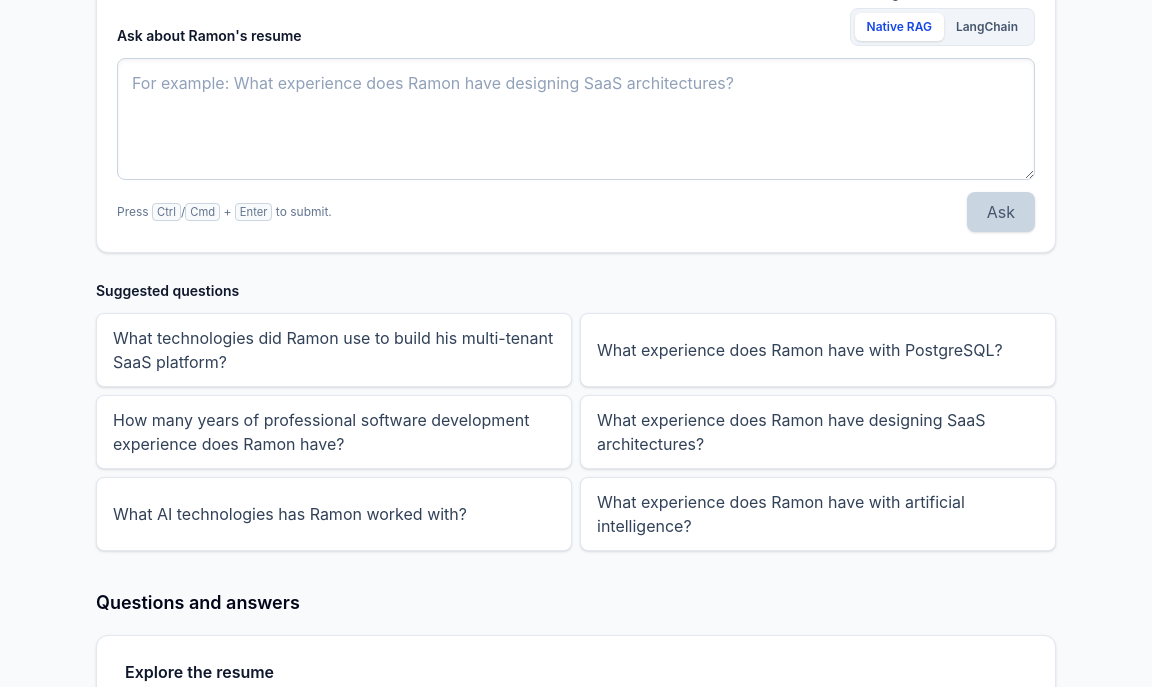
AI Resume application › preserves the engine used by each completed answer
The width and height of the screenshot is (1152, 687).
(page scrolled)
Click the button "What experience does Ramon have with PostgreSQL?": x=818, y=350 [580, 313, 1056, 387]
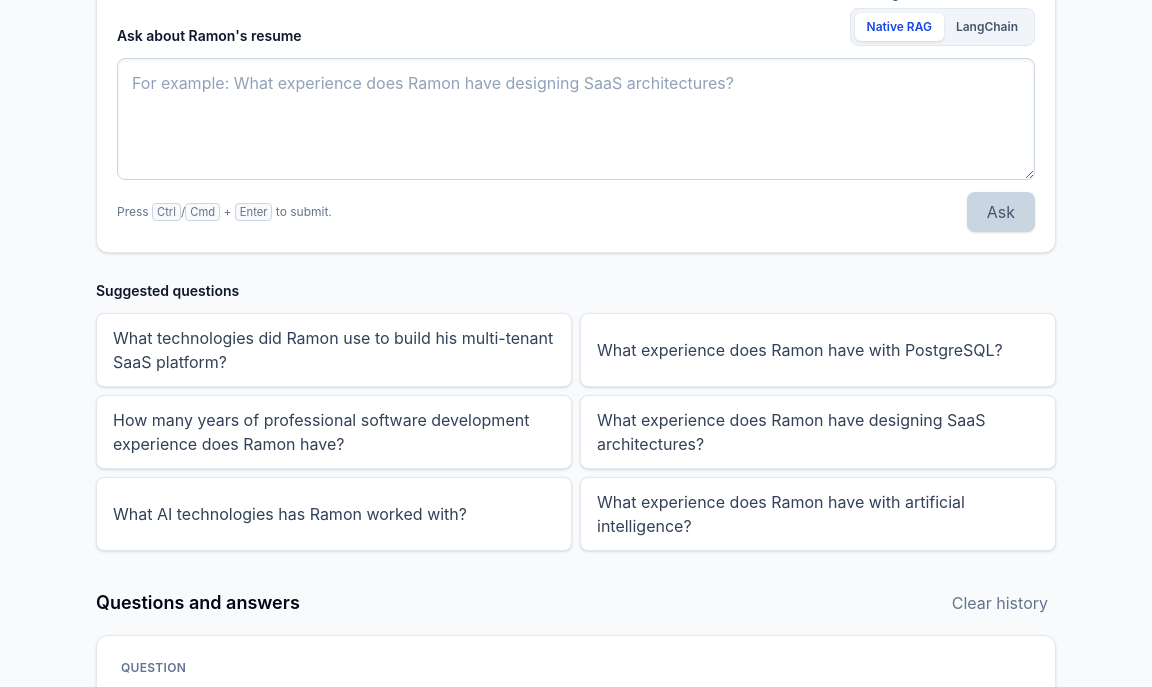
Click the radio button labelled "LangChain": x=987, y=26 [956, 19, 1018, 34]
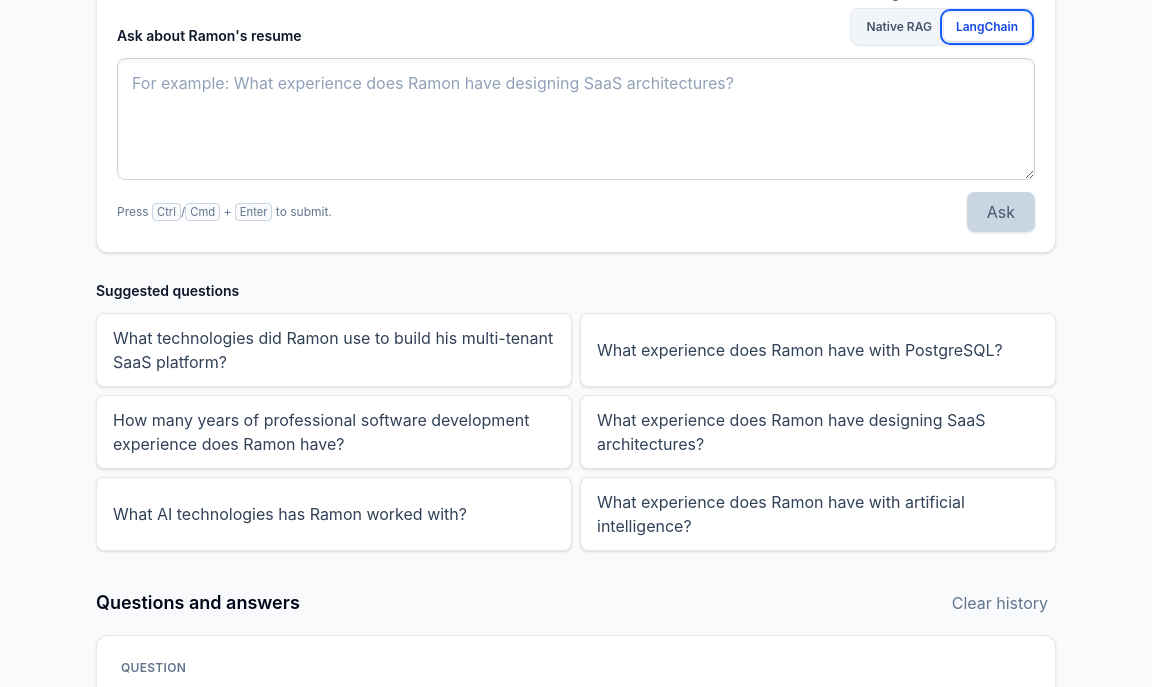
Click the button "What AI technologies has Ramon worked with?": x=334, y=514 [96, 477, 572, 551]
(page scrolled)
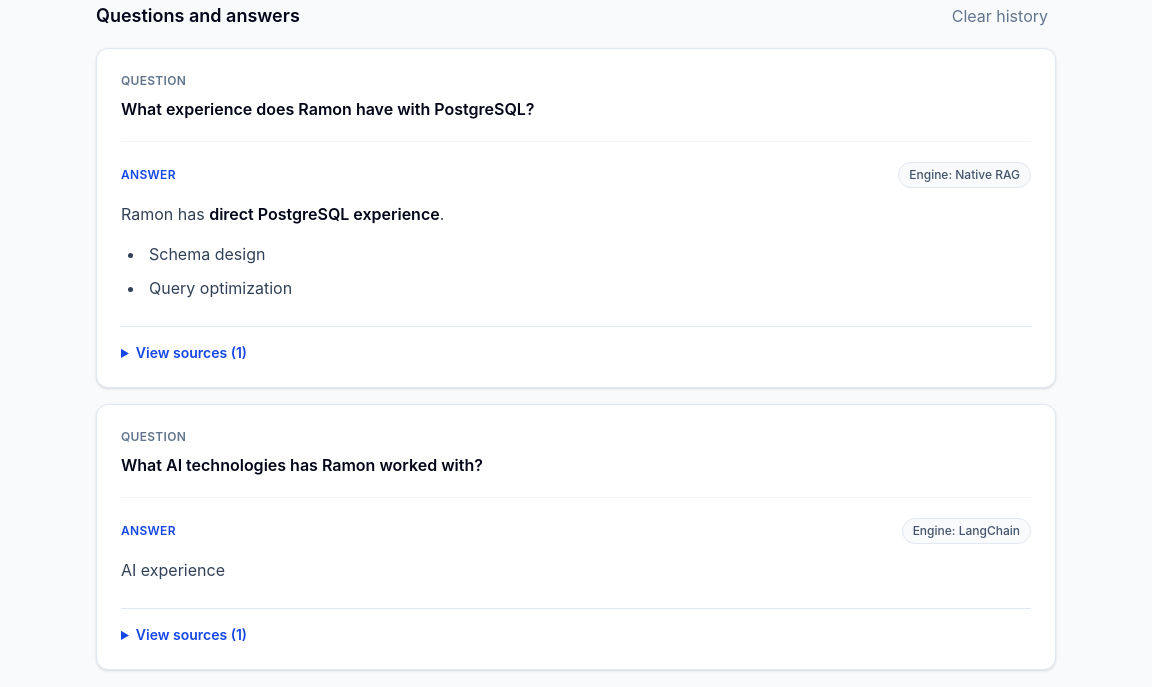
expect the text "Engine: Native RAG" is shown: met, box [898, 162, 1031, 188]
expect the text "Engine: LangChain" is shown: met, box [902, 518, 1031, 544]
